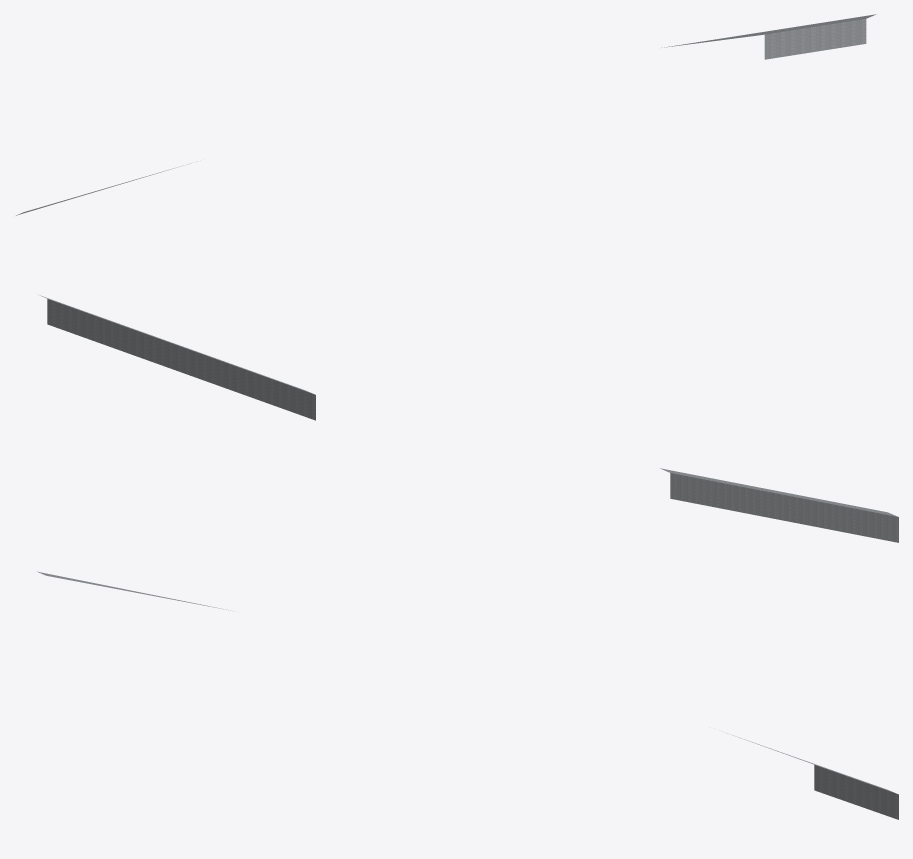
Rendered from kd_stage_13612f_0_28_bounded.glb.
3 renders of one model, top to bottom at view 1: azimuth 30°, elevation 25°; view 2: azimuth 150°, elevation 25°; view 3: azimuth 330°, elevation 25°, orthographic. The views are drawn at different scales.
Visible parts, largest first — view 1: kd_stage_13612f_0_28_bounded; view 2: kd_stage_13612f_0_28_bounded; view 3: kd_stage_13612f_0_28_bounded.
Boxes of the visible parts, x1,y1,x2,y2 form: kd_stage_13612f_0_28_bounded: (16, 14, 875, 215); kd_stage_13612f_0_28_bounded: (38, 294, 898, 542); kd_stage_13612f_0_28_bounded: (37, 571, 898, 819).
Size of the model in its own units: 105 by 4.6 by 9.05.
1 material, 1 textured.
